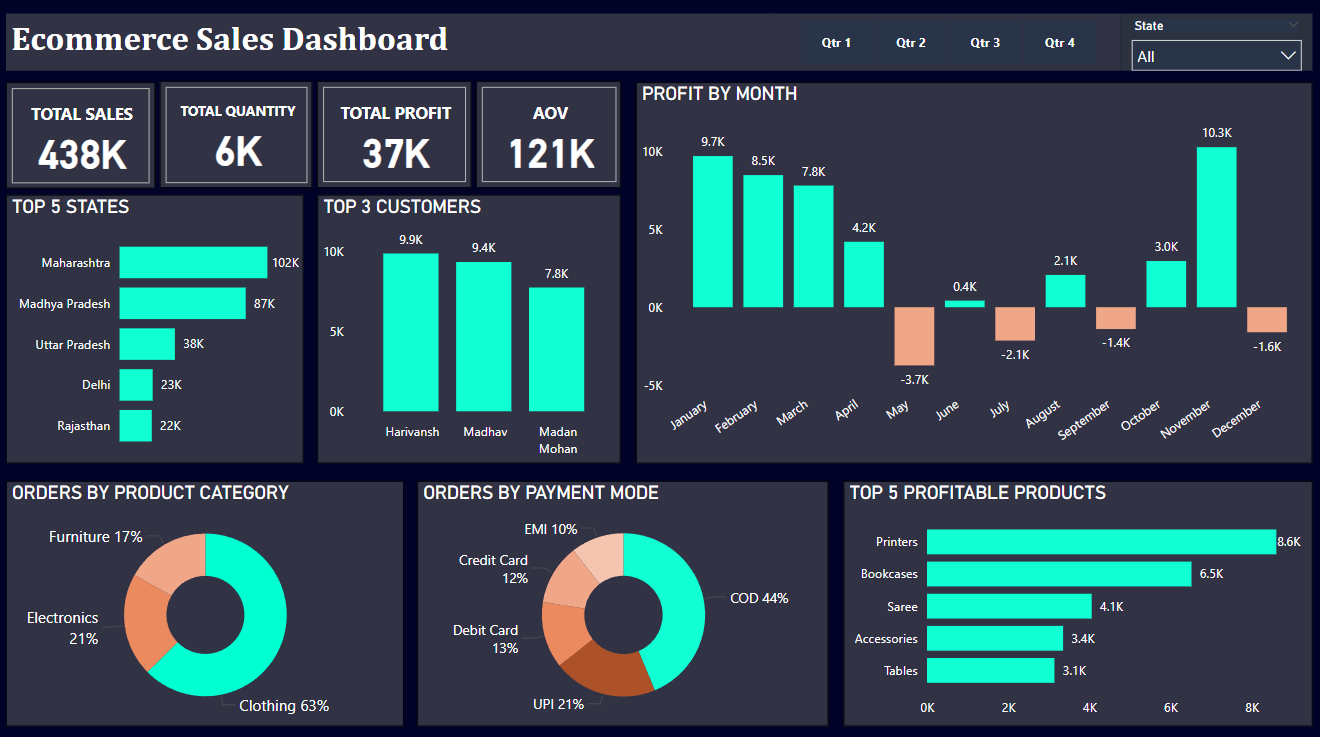

Layout of this report page (visuals, bound fields, positions):
{"tool":"powerbi","page":{"name":"Key Analysis","canvas":[1280,720],"ordinal":0},"visuals":[{"type":"textbox","box":[9.7,16.9,740.8,55.5],"z":0},{"type":"cardVisual","fields":{"Data":["Sum(Details.Sales)"]},"box":[10,82.7,143.6,102.7],"z":1000},{"type":"cardVisual","fields":{"Data":["Sum(Details.Quantity)"]},"box":[158,82,147,103],"z":2000},{"type":"cardVisual","fields":{"Data":["Sum(Details.Profit)"]},"box":[310,82.1,148.6,102.9],"z":3000},{"type":"cardVisual","fields":{"Data":["Sum(Details.AOV)"]},"box":[463.6,82.1,140,102.9],"z":4000},{"type":"slicer","fields":{"Values":["Orders.State"]},"box":[1085.8,16.9,184.6,55.5],"z":5000},{"type":"slicer","fields":{"Values":["Orders.Order Date.Variation.Date Hierarchy.Quarter"]},"box":[750.4,16.9,335.4,55.5],"z":6000},{"type":"barChart","title":"TOP 5 STATES","fields":{"Category":["Orders.State"],"Y":["Sum(Details.Sales)"]},"box":[9.7,191.8,287.1,259.4],"z":7000},{"type":"barChart","title":"TOP 5 PROFITABLE PRODUCTS","fields":{"Category":["Details.Sub-Category"],"Y":["Sum(Details.Profit)"]},"box":[818,468.1,452.4,236.5],"z":8000},{"type":"donutChart","title":"ORDERS BY PRODUCT CATEGORY","fields":{"Category":["Details.Category"],"Y":["Sum(Details.Quantity)"]},"box":[9.7,468.1,383.6,236.5],"z":9000},{"type":"donutChart","title":"ORDERS BY PAYMENT MODE","fields":{"Category":["Details.PaymentMode"],"Y":["Sum(Details.Quantity)"]},"box":[406.6,468.1,396.9,236.5],"z":10000},{"type":"columnChart","title":"PROFIT BY MONTH","fields":{"Y":["Sum(Details.Profit)"],"Category":["Orders.Order Date.Variation.Date Hierarchy.Month"]},"box":[617.7,83.2,652.7,368],"z":12000},{"type":"columnChart","title":"TOP 3 CUSTOMERS","fields":{"Y":["Sum(Details.Sales)"],"Category":["Orders.Customer Name"]},"box":[310.1,191.8,293.2,259.4],"z":13000}]}

Visuals, with their boxes in screenshot pixels (x1, y1, x2, y2), scaled from the page's 1280x720 canvas onto the 1320x737 screenshot:
textbox: [left=10, top=17, right=774, bottom=74]
cardVisual - Sum(Details.Sales): [left=10, top=85, right=158, bottom=190]
cardVisual - Sum(Details.Quantity): [left=163, top=84, right=315, bottom=189]
cardVisual - Sum(Details.Profit): [left=320, top=84, right=473, bottom=189]
cardVisual - Sum(Details.AOV): [left=478, top=84, right=622, bottom=189]
slicer - Orders.State: [left=1120, top=17, right=1310, bottom=74]
slicer - Orders.Order Date.Variation.Date Hierarchy.Quarter: [left=774, top=17, right=1120, bottom=74]
"TOP 5 STATES" barChart: [left=10, top=196, right=306, bottom=462]
"TOP 5 PROFITABLE PRODUCTS" barChart: [left=844, top=479, right=1310, bottom=721]
"ORDERS BY PRODUCT CATEGORY" donutChart: [left=10, top=479, right=406, bottom=721]
"ORDERS BY PAYMENT MODE" donutChart: [left=419, top=479, right=829, bottom=721]
"PROFIT BY MONTH" columnChart: [left=637, top=85, right=1310, bottom=462]
"TOP 3 CUSTOMERS" columnChart: [left=320, top=196, right=622, bottom=462]
